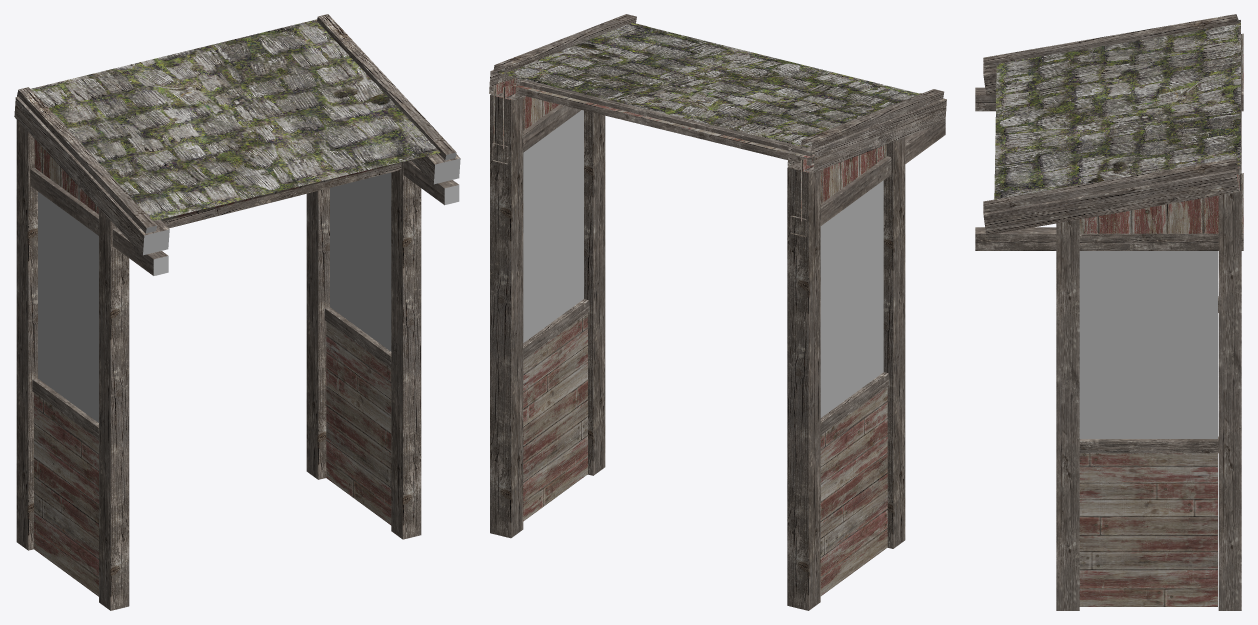
File: Shed3_LOD1.fbx
The picture shows the model from 3 angles, left to right: view 1: azimuth 30°, elevation 25°; view 2: azimuth 150°, elevation 25°; view 3: azimuth 270°, elevation 25°; orthographic projection. The views are drawn at different scales.
Visible parts, largest first — view 1: polySurface515; view 2: polySurface515; view 3: polySurface515.
Boxes of the visible parts, x1,y1,x2,y2 form: polySurface515: (14, 14, 460, 610); polySurface515: (489, 14, 946, 610); polySurface515: (975, 14, 1243, 610).
Size of the model in its own units: 2.91 by 4 by 2.17.
